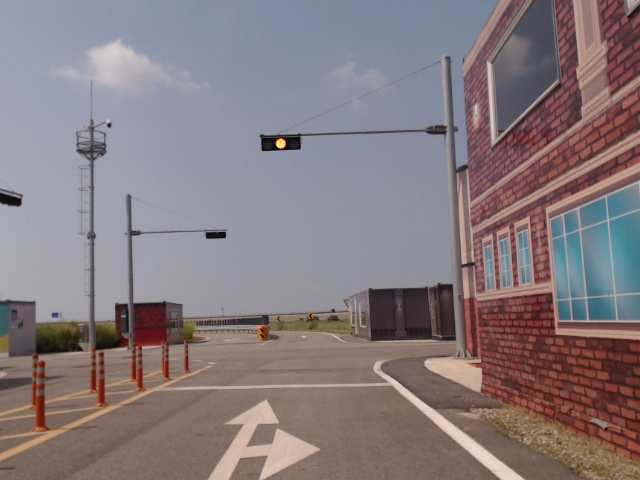orange_3: (261, 135, 301, 151)
